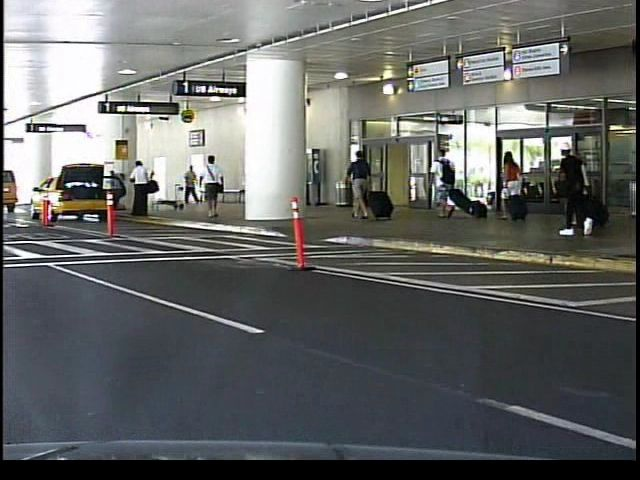person: (552, 129, 600, 241), (498, 141, 536, 226), (425, 141, 462, 221), (346, 142, 376, 225), (200, 145, 232, 219), (180, 159, 202, 207)
